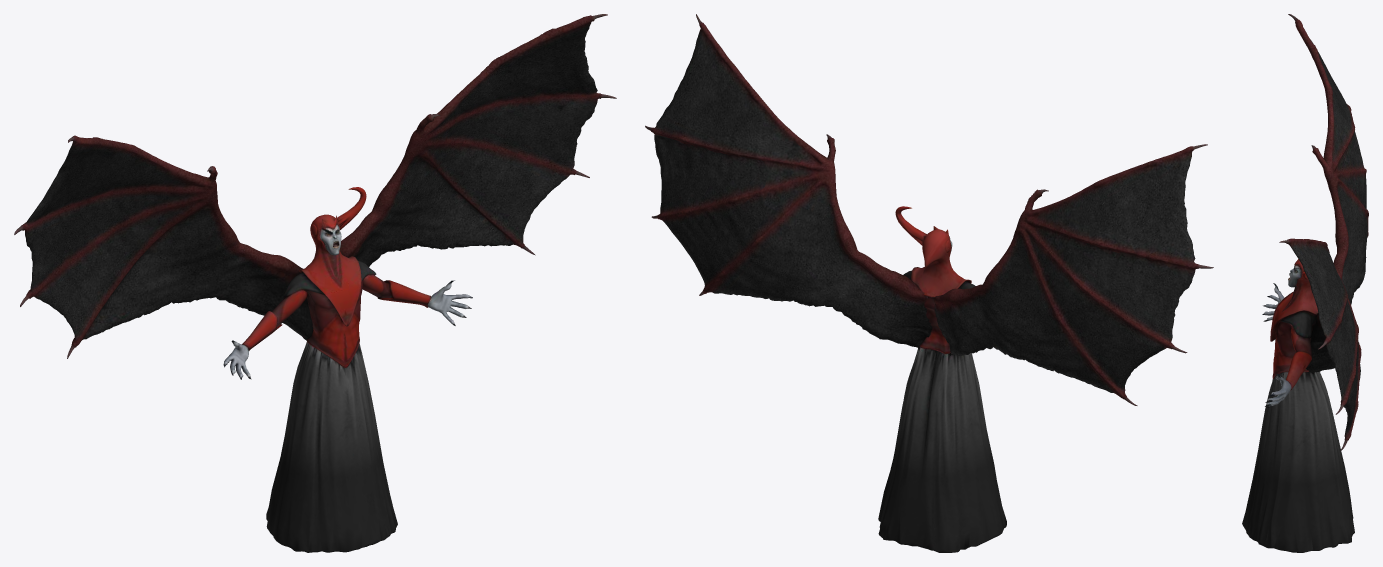
File: MZ4250 - Venger.glb
The picture shows the model from 3 angles, left to right: view 1: azimuth 30°, elevation 25°; view 2: azimuth 150°, elevation 25°; view 3: azimuth 270°, elevation 25°; orthographic projection. The views are drawn at different scales.
Visible parts, largest first — view 1: Venger.001; view 2: Venger.001; view 3: Venger.001.
Part boxes in pixels (x1,y1,x2,y2): Venger.001: (14, 14, 616, 552); Venger.001: (645, 14, 1213, 552); Venger.001: (1242, 14, 1368, 552).
Bounding box in the file's own units: 4690 × 3441 × 987.
1 material, 1 textured.
